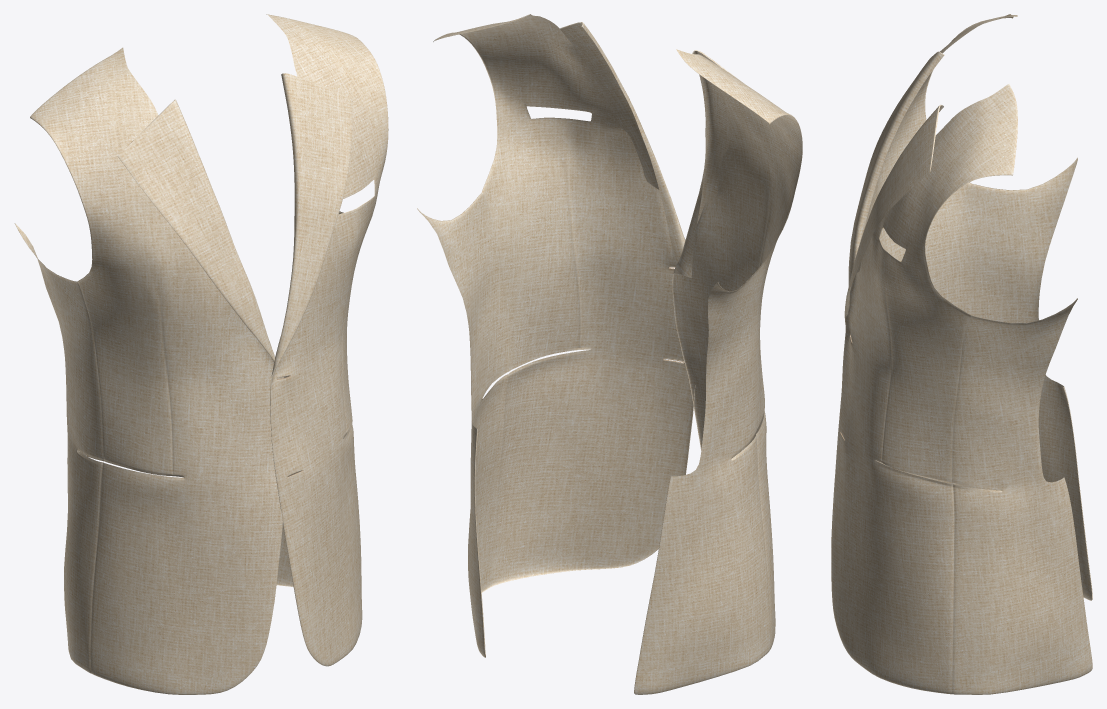
Rendered from Notch_Double_Button.glb.
3 views of the same model, side by side, from view 1: azimuth 30°, elevation 25°; view 2: azimuth 150°, elevation 25°; view 3: azimuth 270°, elevation 25° (orthographic). The views are drawn at different scales.
Parts seen in each view (by area): view 1: notch_double_button1; view 2: notch_double_button1; view 3: notch_double_button1.
Part boxes in pixels (x1,y1,x2,y2): notch_double_button1: (14, 14, 388, 694); notch_double_button1: (417, 14, 802, 694); notch_double_button1: (831, 14, 1092, 694).
Bounding box in the file's own units: 0.0585 × 0.102 × 0.0411.
Materials: 2 (1 with a texture image).
